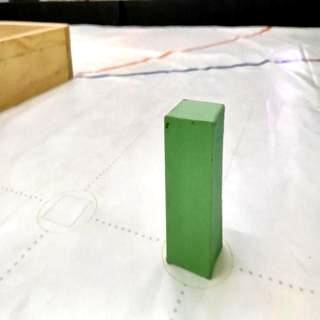greenbox: (161, 95, 227, 278)
